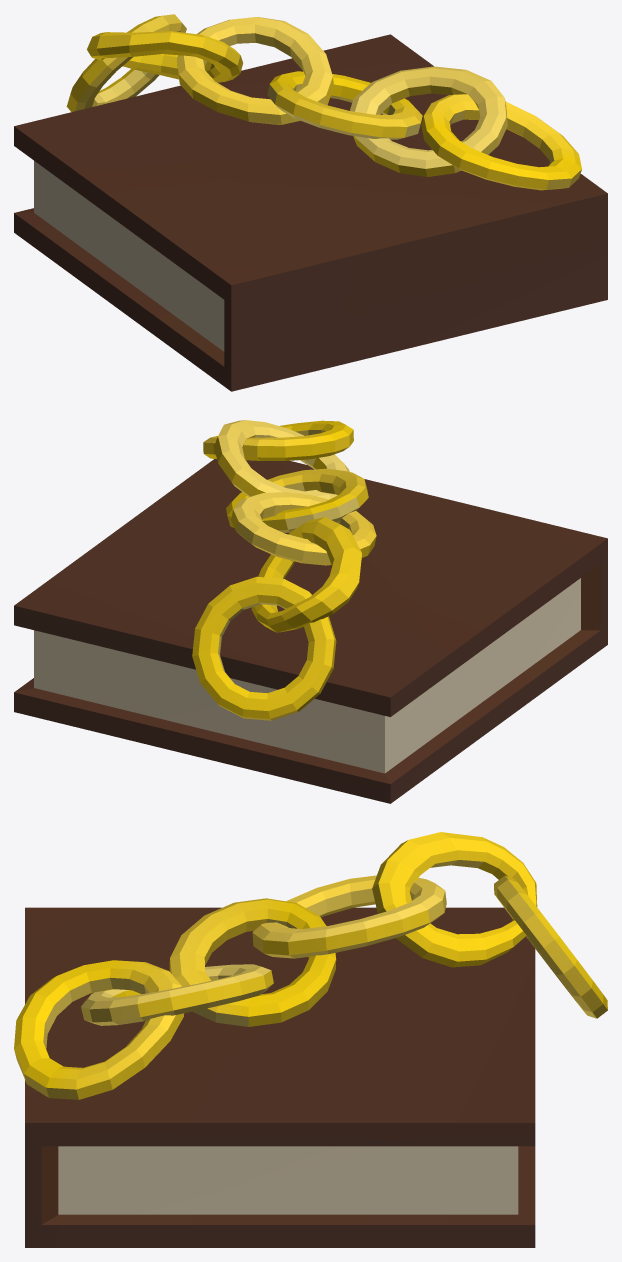
Rendered from T2bookWChain.fbx.
3 views of the same model, one above another, from view 1: azimuth 30°, elevation 25°; view 2: azimuth 150°, elevation 25°; view 3: azimuth 270°, elevation 25° (orthographic). The views are drawn at different scales.
Parts seen in each view (by area): view 1: Grimoire, Cylinder.002, Cylinder.004, Cylinder.001, Cylinder.003, Cylinder, Cylinder.006; view 2: Grimoire, Cylinder.006, Cylinder, Cylinder.004, Cylinder.003, Cylinder.002, Cylinder.001; view 3: Grimoire, Cylinder.001, Cylinder, Cylinder.003, Cylinder.004, Cylinder.002, Cylinder.006.
Boxes of the visible parts, <box> form: Grimoire: <box>14,34,607,391</box>; Cylinder.002: <box>350,66,507,176</box>; Cylinder.004: <box>177,17,333,124</box>; Cylinder.001: <box>421,94,581,190</box>; Cylinder.003: <box>267,71,422,139</box>; Cylinder: <box>87,31,242,82</box>; Cylinder.006: <box>66,14,186,111</box>; Grimoire: <box>14,459,607,803</box>; Cylinder.006: <box>192,576,336,720</box>; Cylinder: <box>251,517,361,632</box>; Cylinder.004: <box>231,492,376,565</box>; Cylinder.003: <box>226,468,368,532</box>; Cylinder.002: <box>214,420,349,499</box>; Cylinder.001: <box>203,420,353,460</box>; Grimoire: <box>25,907,535,1247</box>; Cylinder.001: <box>14,960,184,1099</box>; Cylinder: <box>372,832,537,967</box>; Cylinder.003: <box>169,898,336,1026</box>; Cylinder.004: <box>252,875,446,958</box>; Cylinder.002: <box>81,964,273,1025</box>; Cylinder.006: <box>494,875,607,1018</box>.
Size of the model in its own units: 1200 by 653 by 1397.
